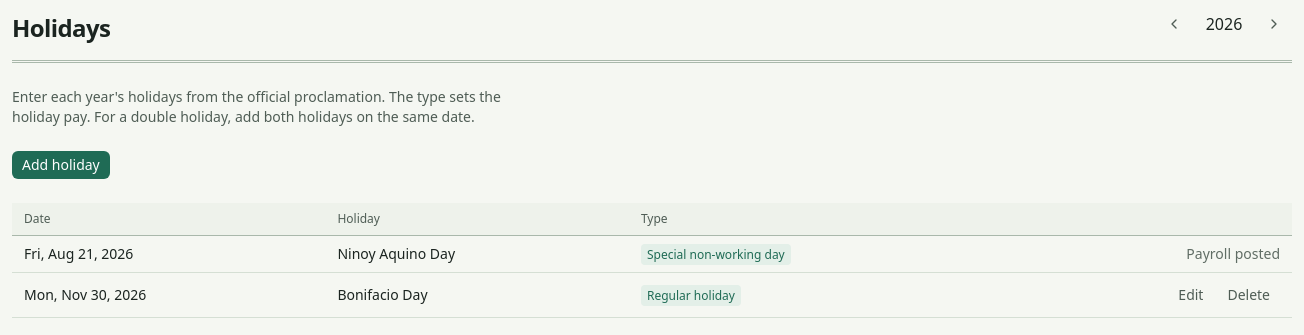
Test: HolidaysPage › moves between years
Expected: the row "Mon, Nov 30, 2026 Bonifacio Day Regular holiday Edit Delete" is shown, [12,272,1292,318]
Step 1. Click the button named "Next year" → (1274, 24), box [1256,12,1292,36]
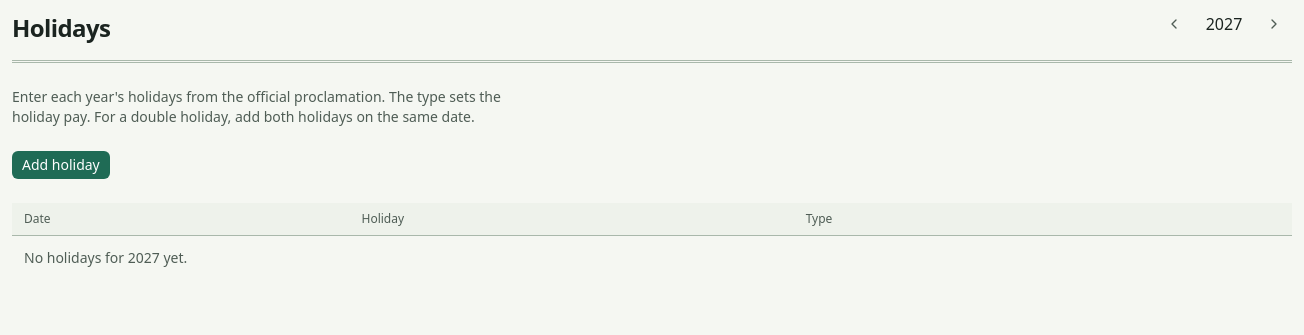
Result: the text "No holidays for 2027 yet." is shown at [12,236,1292,280]
